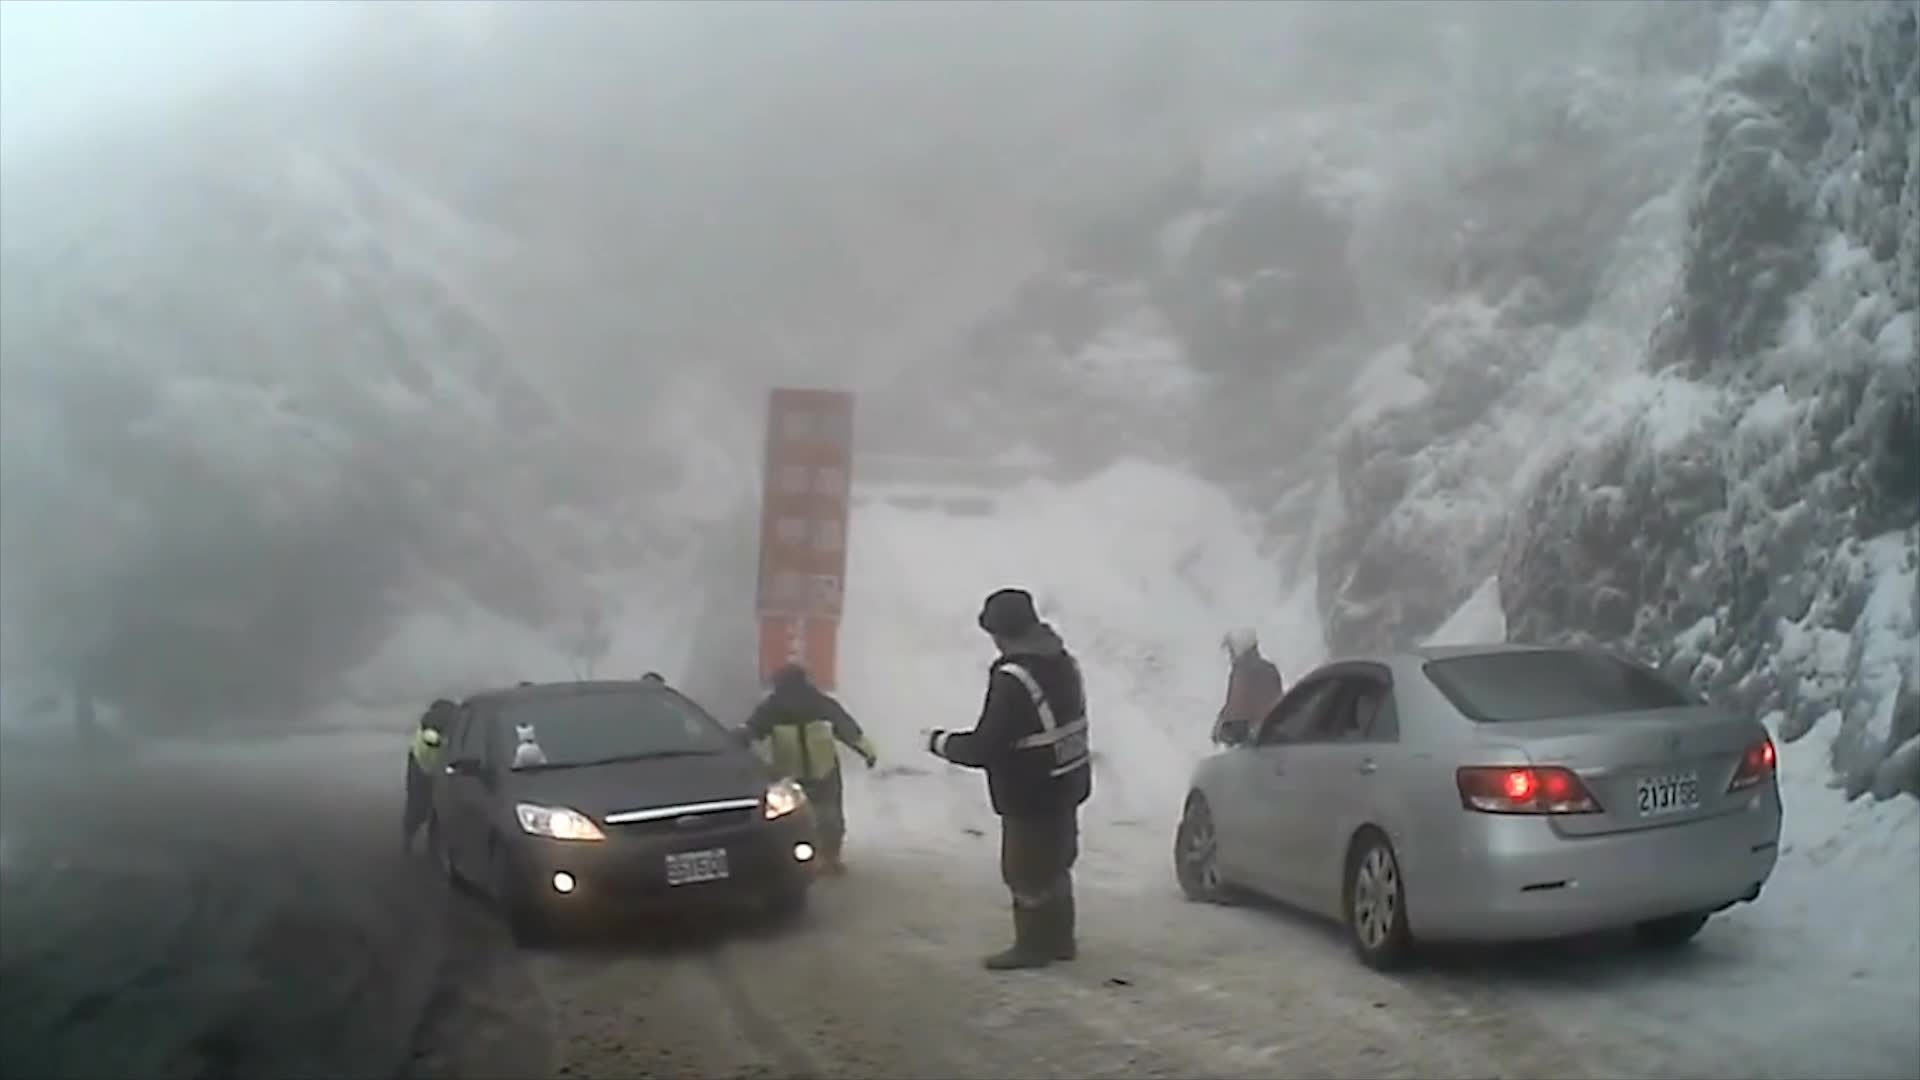pedestrian: (907, 589, 1095, 969), (732, 664, 887, 870), (1215, 627, 1292, 825), (408, 705, 484, 858)
vehicle: (1173, 644, 1783, 970), (425, 676, 824, 952)
